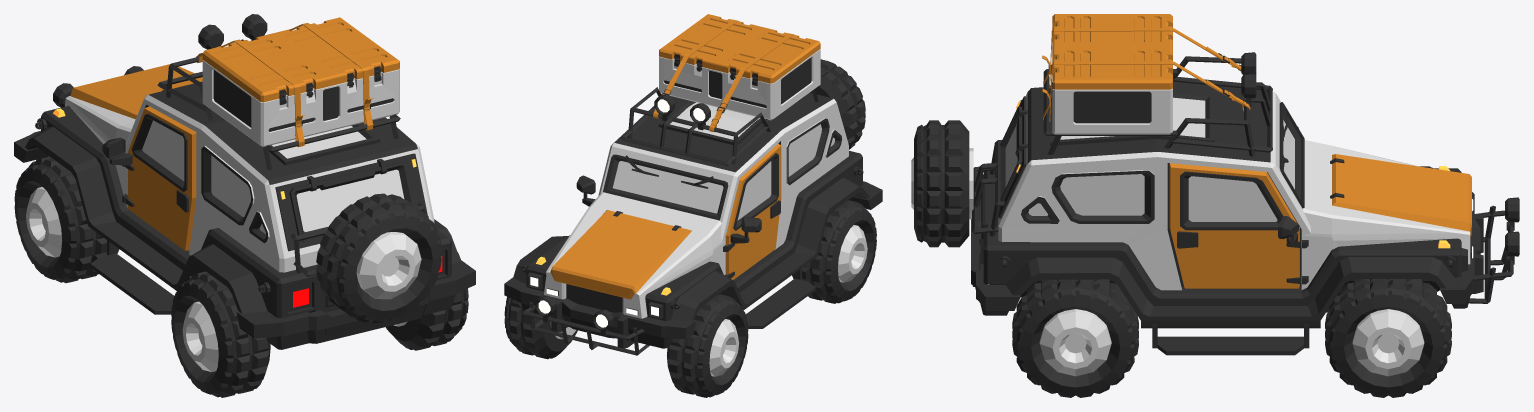
3 renders of one model, left to right at view 1: azimuth 30°, elevation 25°; view 2: azimuth 150°, elevation 25°; view 3: azimuth 270°, elevation 25°, orthographic. The views are drawn at different scales.
Size of the model in its own units: 2.48 by 2.82 by 5.21.
